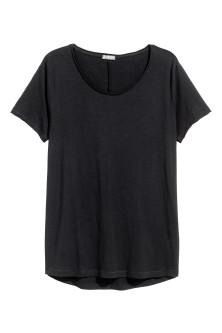teeshirt: (15, 40, 213, 293)
